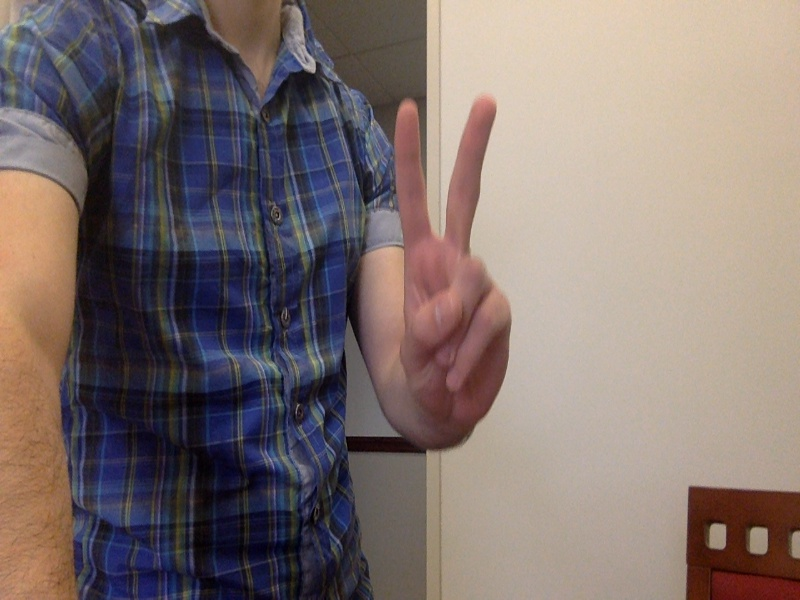2-hand: (391, 98, 521, 429)
